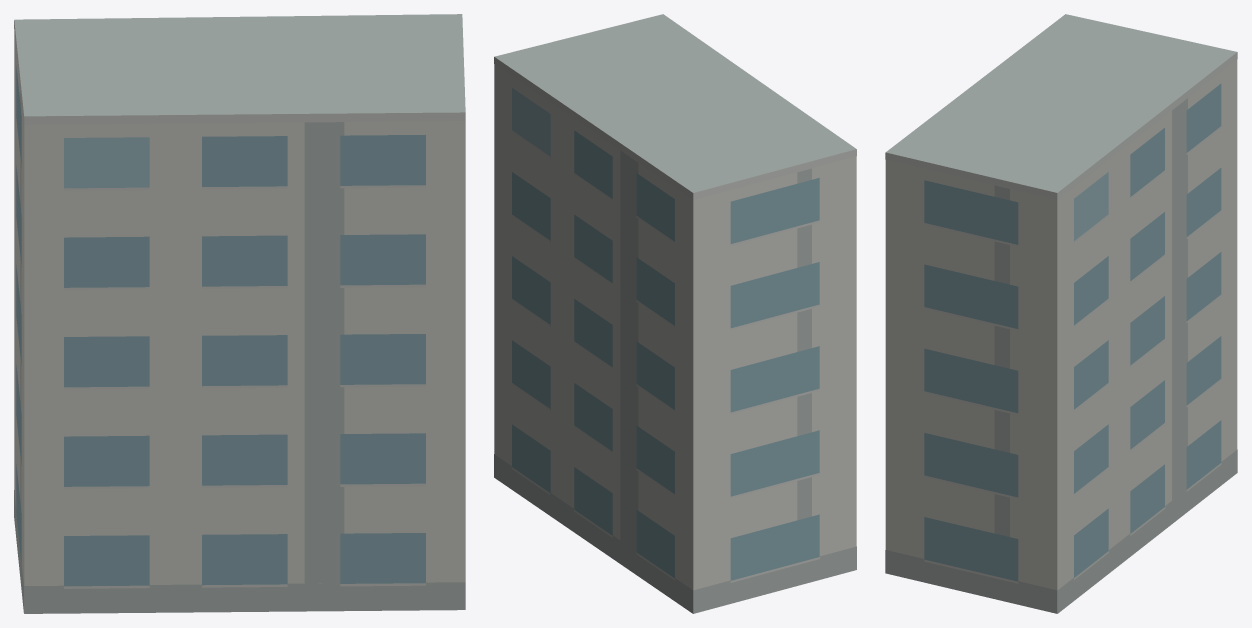
The model's file is survey-upis-32729597.glb.
The picture shows the model from 3 angles, left to right: view 1: azimuth 30°, elevation 25°; view 2: azimuth 150°, elevation 25°; view 3: azimuth 270°, elevation 25°; orthographic projection. The views are drawn at different scales.
Visible parts, largest first — view 1: survey-upis-32729597.tmp; view 2: survey-upis-32729597.tmp; view 3: survey-upis-32729597.tmp.
Part boxes in pixels (<box>): survey-upis-32729597.tmp: <box>14,14,465,613</box>; survey-upis-32729597.tmp: <box>494,14,856,613</box>; survey-upis-32729597.tmp: <box>885,14,1237,613</box>.
Bounding box in the file's own units: 12.86 × 14.1 × 10.69.
